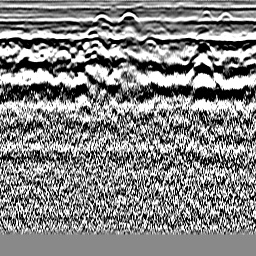cavity: (116, 11, 138, 27)
